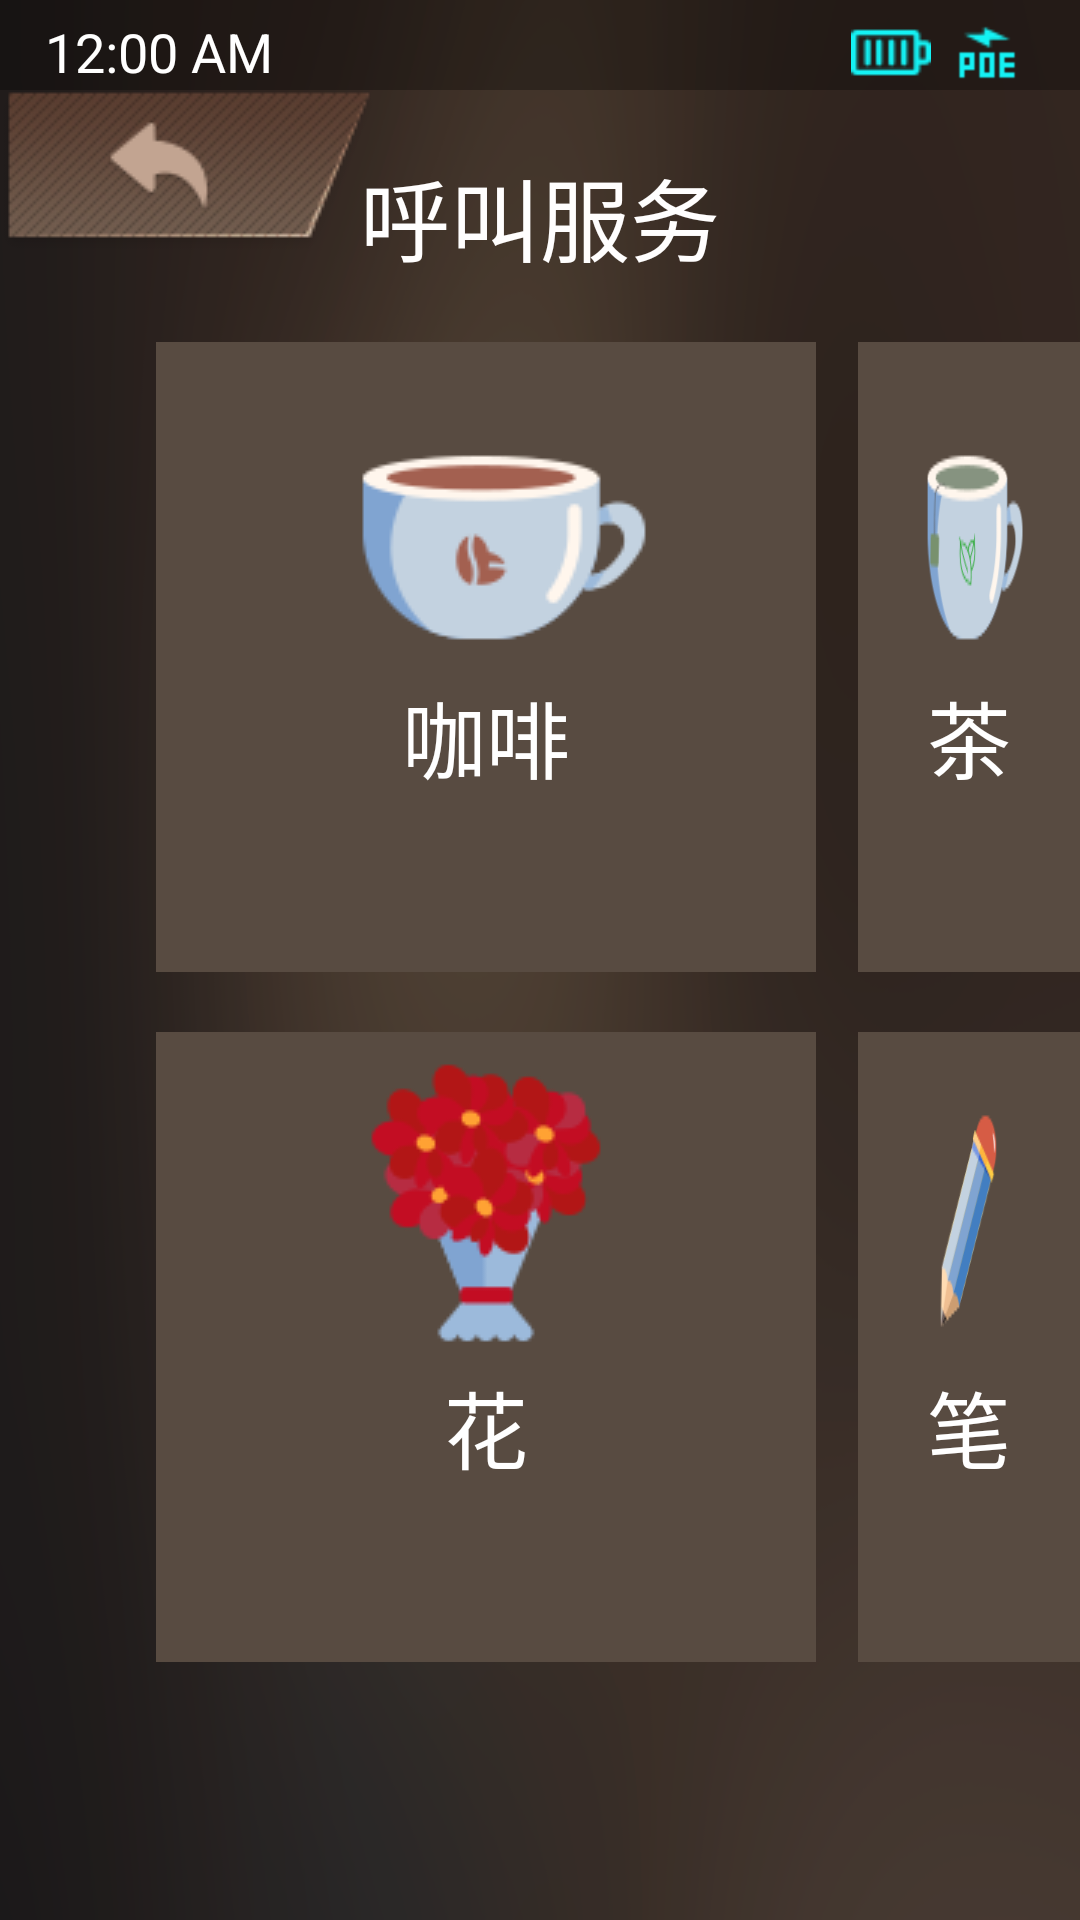

Icon click points for this 1080px x 1920px phone screenshot, format (x=x, y=y):
battery level list: (x=891, y=52)
